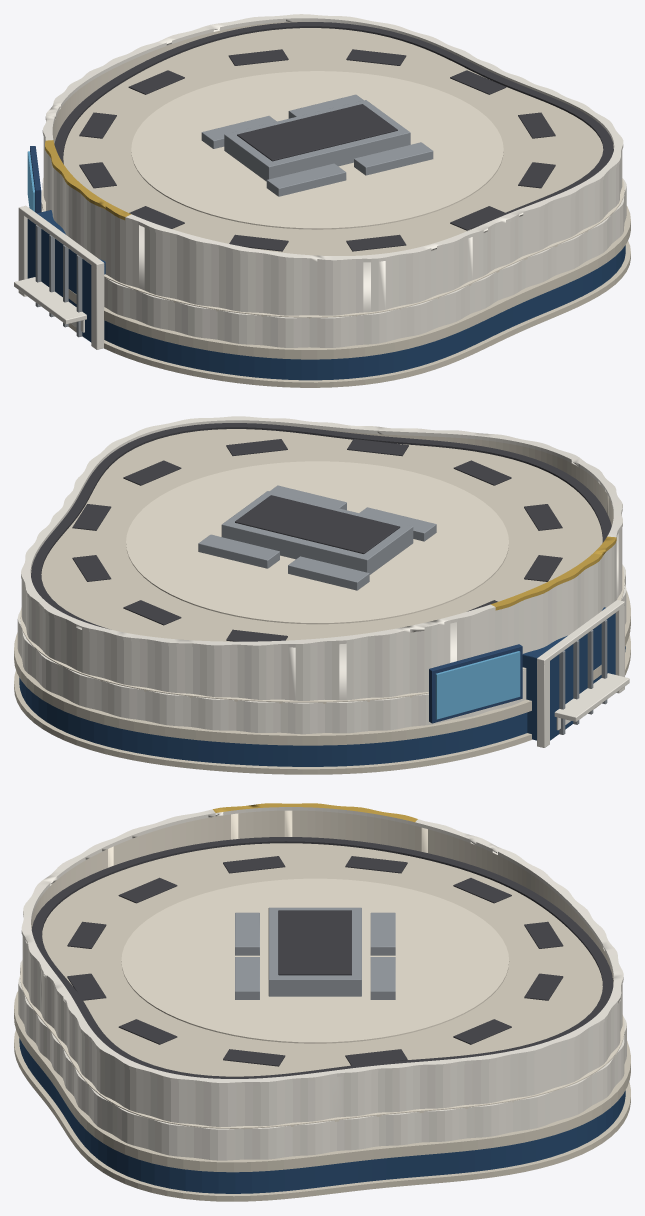
The model's file is chase-center.glb.
3 renders of one model, top to bottom at view 1: azimuth 30°, elevation 25°; view 2: azimuth 150°, elevation 25°; view 3: azimuth 270°, elevation 25°, orthographic. The views are drawn at different scales.
Visible parts, largest first — view 1: grp_Toy_stone, grp_Toy_sand, sail_skin, grp_Toy_trim, grp_Toy_roofd, grp_Toy_glass, sail_crest, grp_Toy_steel; view 2: grp_Toy_stone, grp_Toy_sand, sail_skin, grp_Toy_trim, grp_Toy_roofd, grp_Toy_glass, sail_crest, grp_Toy_steel, board_screen, board_frame; view 3: grp_Toy_stone, grp_Toy_sand, sail_skin, grp_Toy_roofd, grp_Toy_trim, grp_Toy_glass, sail_crest, grp_Toy_steel.
Part boxes in pixels (x1,y1,x2,y2): grp_Toy_stone: [63, 28, 630, 387]; grp_Toy_sand: [42, 71, 624, 318]; sail_skin: [43, 21, 622, 315]; grp_Toy_trim: [14, 178, 626, 349]; grp_Toy_roofd: [54, 22, 613, 251]; grp_Toy_glass: [27, 210, 625, 380]; sail_crest: [42, 14, 623, 263]; grp_Toy_steel: [35, 94, 433, 337]; grp_Toy_stone: [14, 429, 630, 774]; grp_Toy_sand: [20, 461, 624, 703]; sail_skin: [21, 429, 622, 700]; grp_Toy_trim: [17, 564, 629, 747]; grp_Toy_roofd: [31, 423, 611, 641]; grp_Toy_glass: [19, 607, 625, 766]; sail_crest: [21, 416, 622, 648]; grp_Toy_steel: [198, 485, 607, 734]; board_screen: [435, 651, 520, 719]; board_frame: [429, 644, 522, 723]; grp_Toy_stone: [14, 843, 630, 1201]; grp_Toy_sand: [20, 878, 624, 1129]; sail_skin: [22, 810, 622, 1126]; grp_Toy_roofd: [31, 837, 613, 1078]; grp_Toy_trim: [18, 960, 626, 1160]; grp_Toy_glass: [19, 1038, 625, 1193]; sail_crest: [21, 803, 623, 1086]; grp_Toy_steel: [235, 907, 395, 999].
Size of the model in its own units: 164 by 40.8 by 159.
